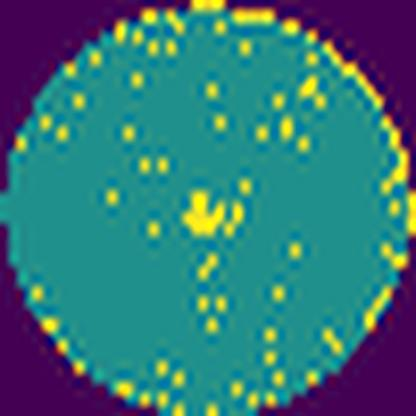Center: (180, 188, 228, 239)
